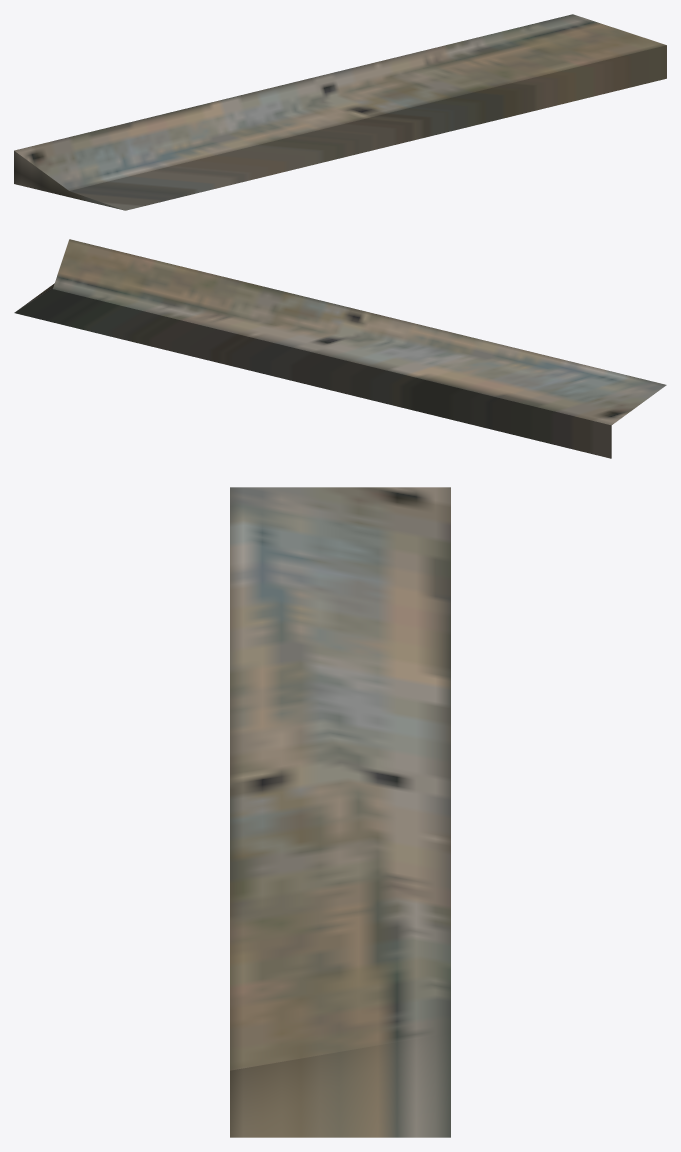
Rendered from Shard_wood_01.glb.
The picture shows the model from 3 angles, top to bottom: view 1: azimuth 30°, elevation 25°; view 2: azimuth 150°, elevation 25°; view 3: azimuth 270°, elevation 25°; orthographic projection. The views are drawn at different scales.
Parts seen in each view (by area): view 1: SHARD_WOOD_01; view 2: SHARD_WOOD_01; view 3: SHARD_WOOD_01.
Boxes of the visible parts, bbox=[...] form: SHARD_WOOD_01: bbox=[14, 14, 666, 210]; SHARD_WOOD_01: bbox=[14, 239, 666, 458]; SHARD_WOOD_01: bbox=[230, 487, 450, 1137].
Size of the model in its own units: 0.786 by 0.042 by 0.126.
1 material, 1 textured.
